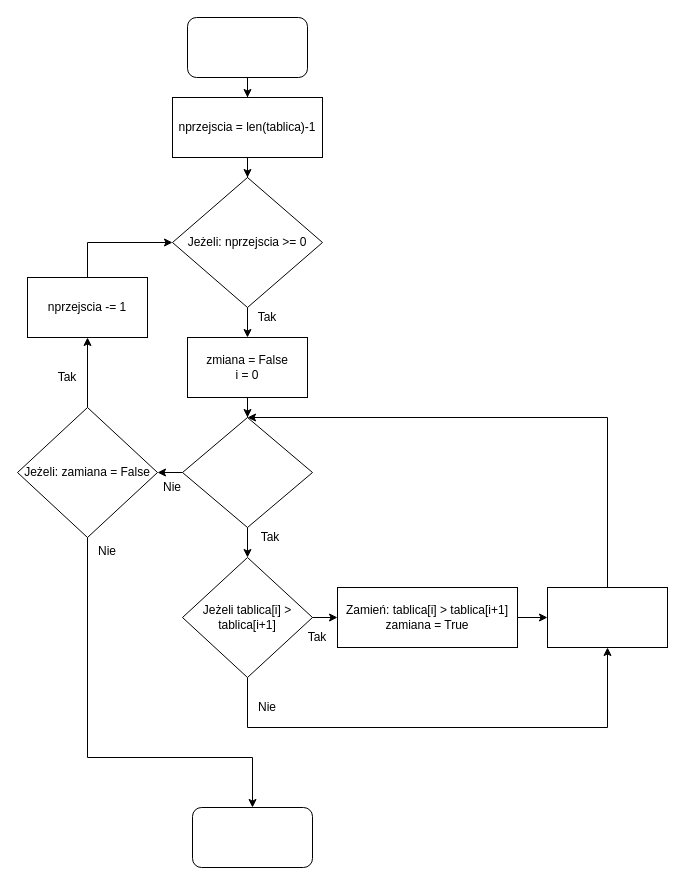
This 685x885 diagram has some shape labels left out. The centre of each missing label's shape, as x and y in pixels:
bubblesort(tablica): the point at 247,47
i+= 1: the point at 607,617
Jeżeli i < nprzejscia: the point at 247,472
Koniec: the point at 252,837
